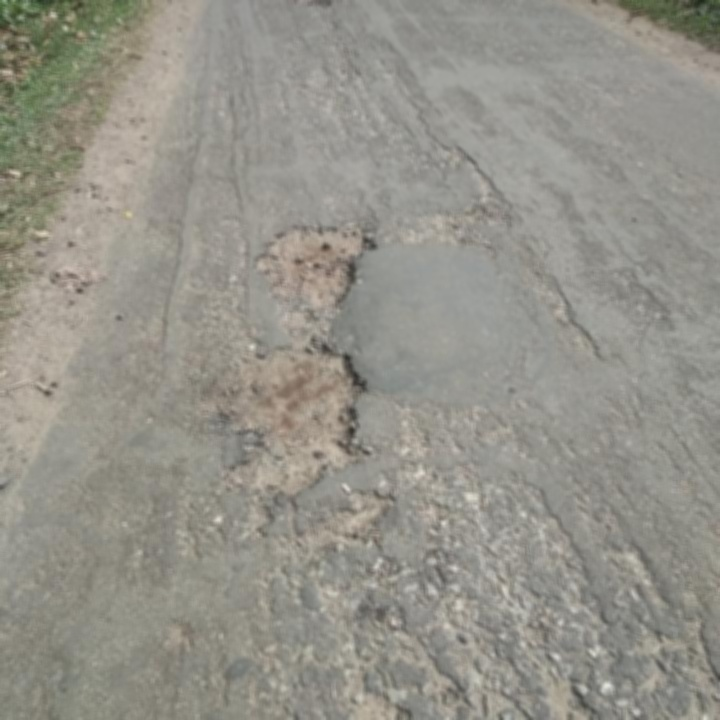pothole: (210, 339, 372, 504), (249, 216, 380, 326)
